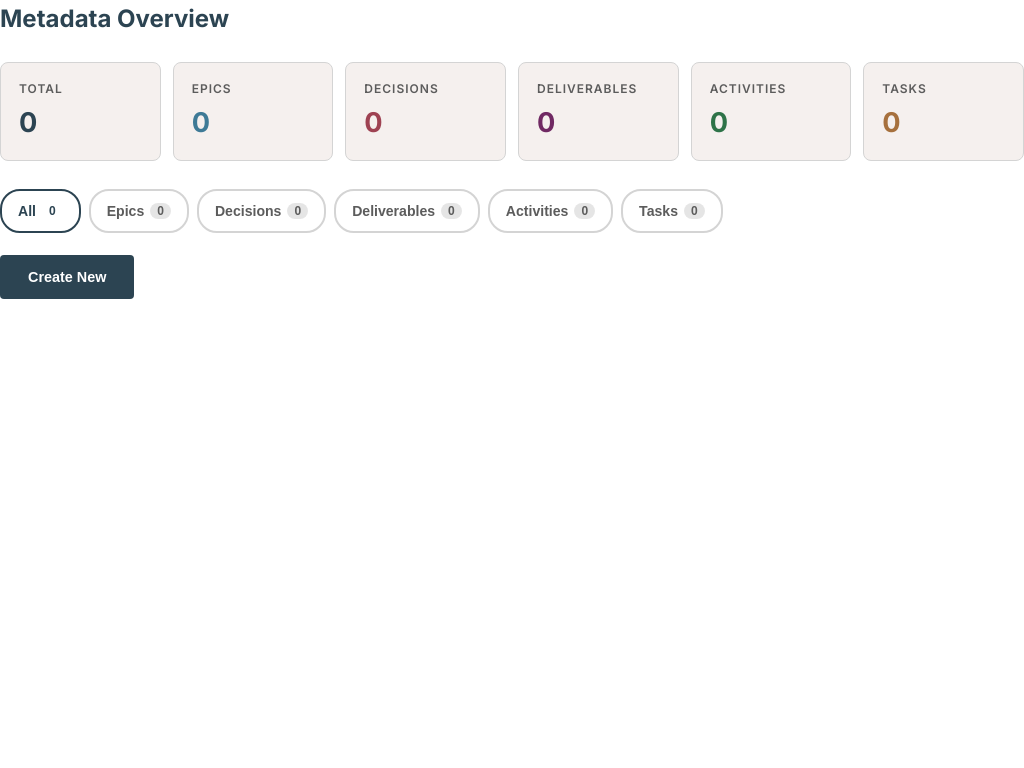
OverviewPage Integration Tests › shows creating state during submission
Step 1. Click the button "Create New" → [67, 277], box [0,255,134,299]
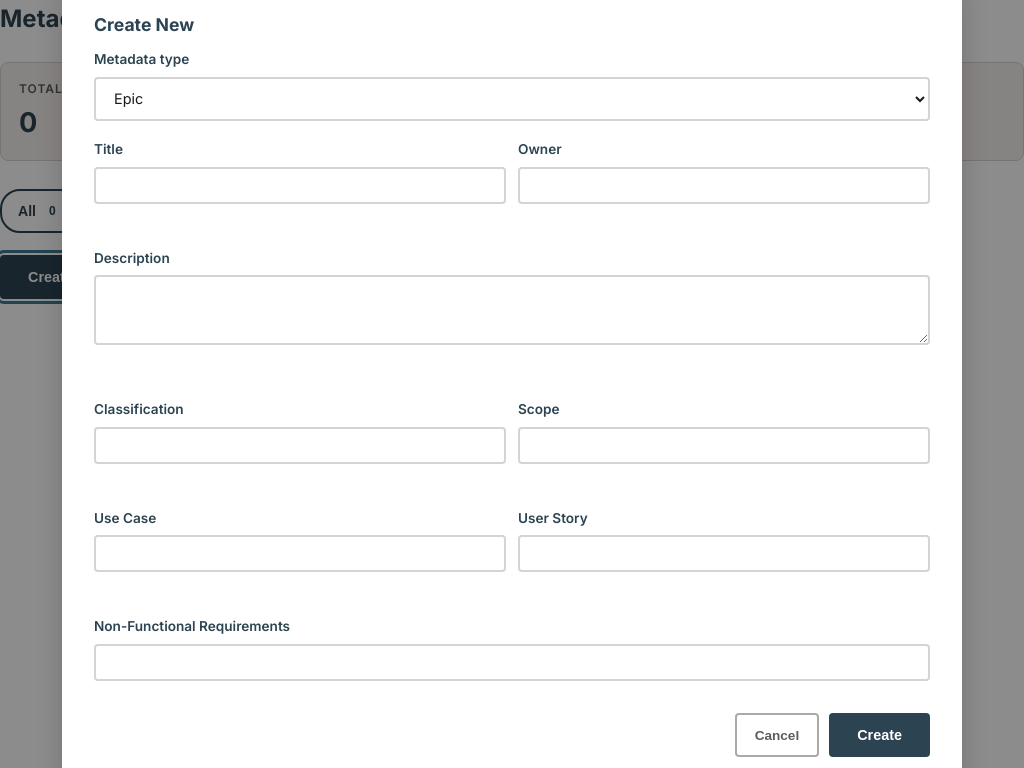
Step 2. Type "Test" into the field labelled "Title" → [300, 185], box [94,166,506,204]
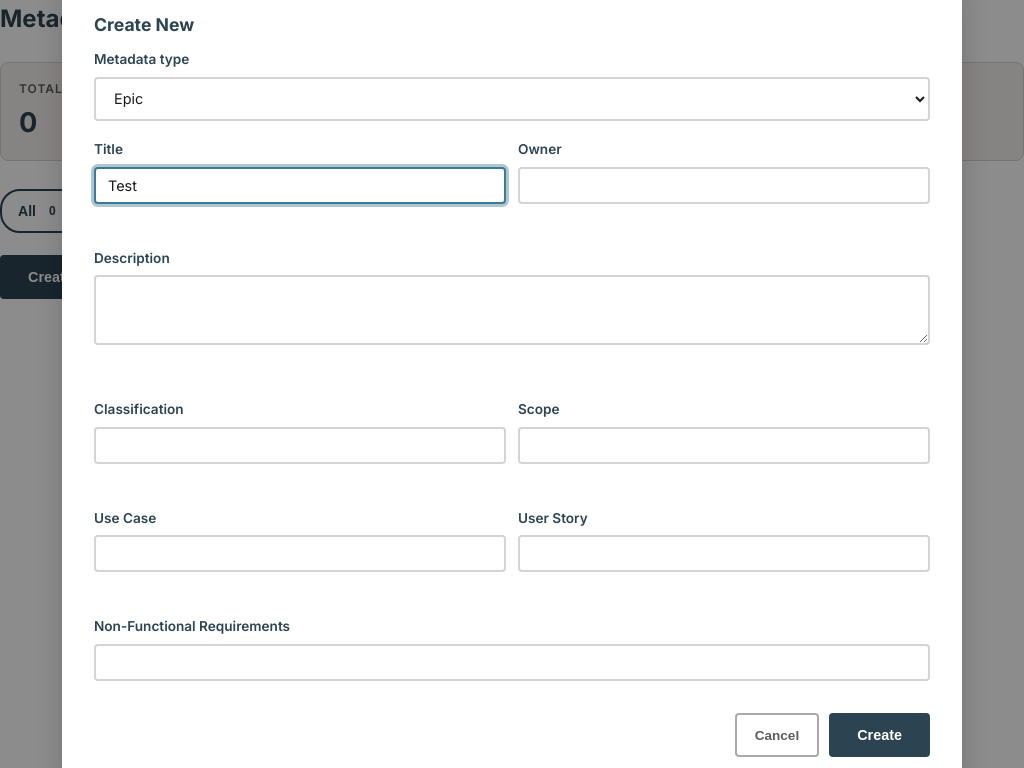
Step 3. Click the button "Create" → [880, 735], box [829,713,930,757]
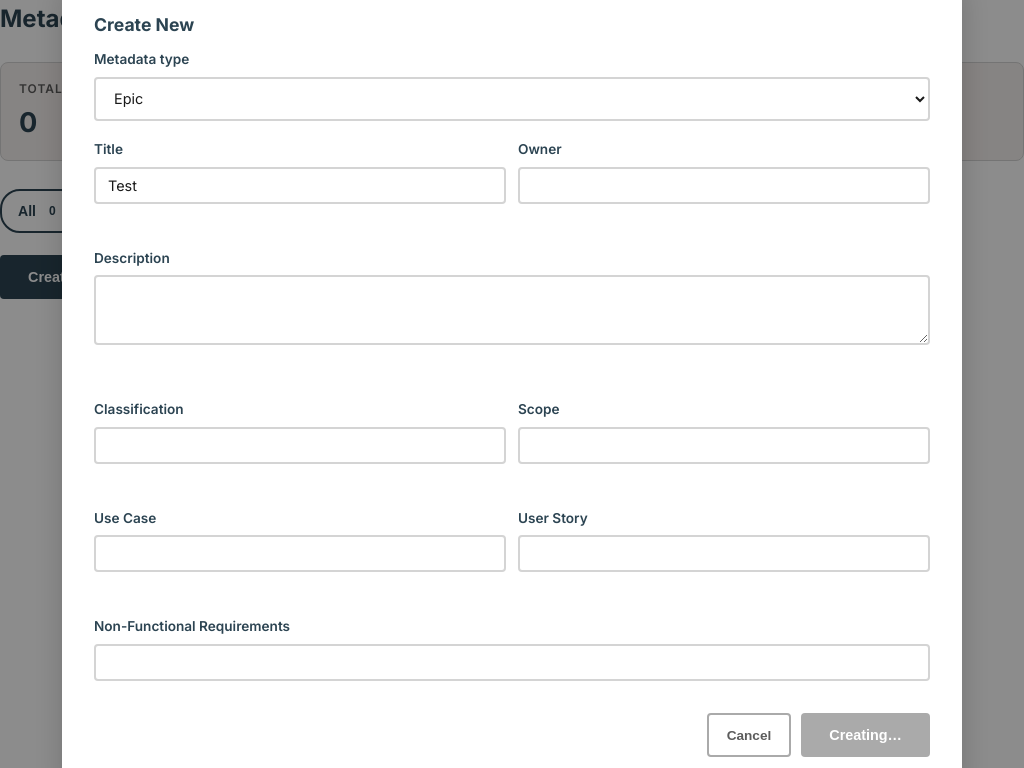
Check: the button named "Create" shows "Creating", box [801,713,930,757]
Check: the button named "Create" is disabled, box [801,713,930,757]
